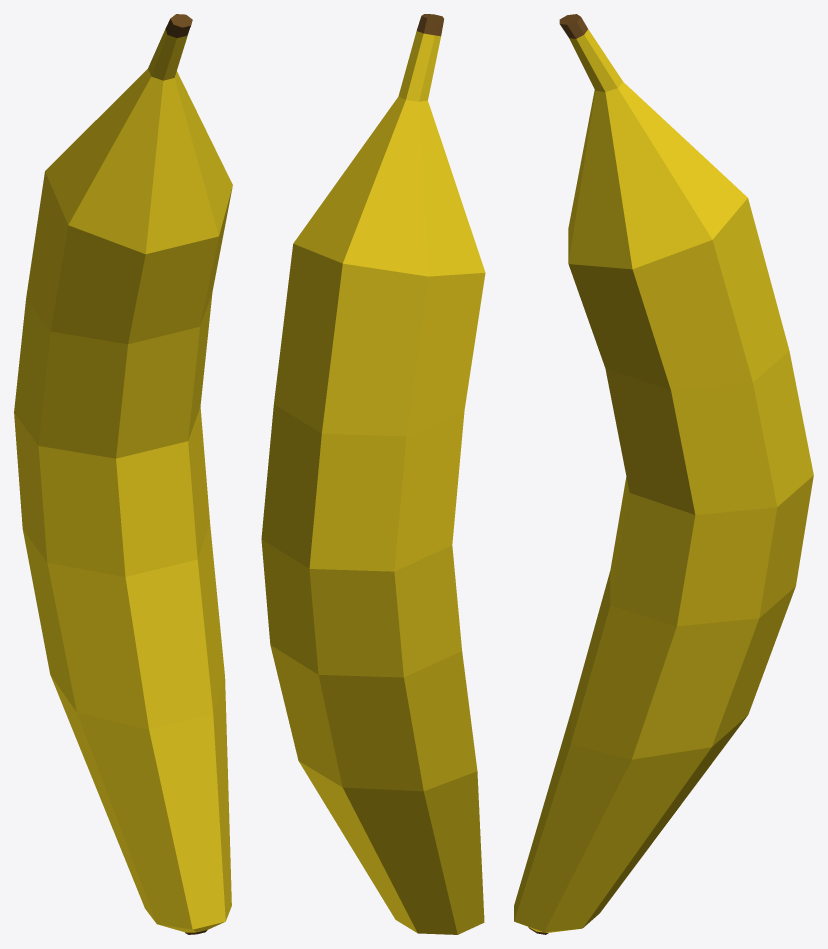
Rendered from banana.glb.
3 renders of one model, left to right at view 1: azimuth 30°, elevation 25°; view 2: azimuth 150°, elevation 25°; view 3: azimuth 270°, elevation 25°, orthographic. The views are drawn at different scales.
Parts seen in each view (by area): view 1: banana; view 2: banana; view 3: banana.
Boxes of the visible parts, <box> form: banana: <box>14,14,232,934</box>; banana: <box>261,14,485,934</box>; banana: <box>514,14,813,934</box>.
Size of the model in its own units: 0.1361 by 0.7157 by 0.2124.
